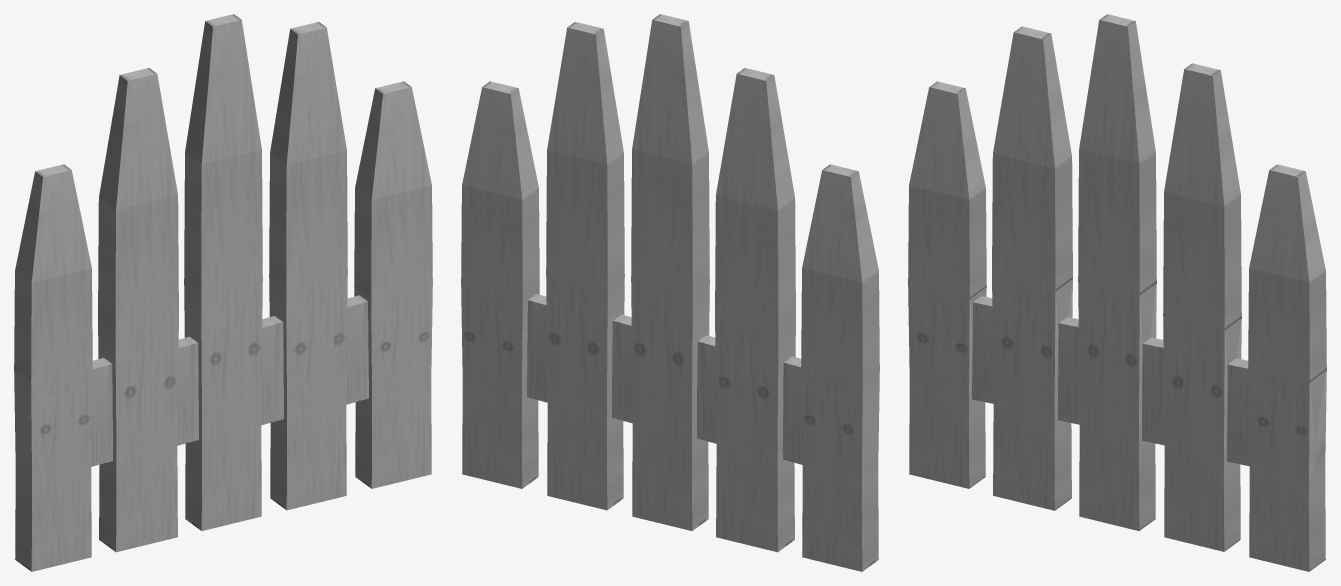
Rendered from gate1.obj.
3 views of the same model, side by side, from view 1: azimuth 30°, elevation 25°; view 2: azimuth 150°, elevation 25°; view 3: azimuth 330°, elevation 25° (orthographic).
Parts seen in each view (by area): view 1: Cube.020_Cube.060; view 2: Cube.020_Cube.060; view 3: Cube.020_Cube.060.
Boxes of the visible parts, x1,y1,x2,y2 form: Cube.020_Cube.060: (14,14,432,571); Cube.020_Cube.060: (461,14,879,571); Cube.020_Cube.060: (908,14,1326,571).
Bounding box in the file's own units: 2.36 × 2.8 × 0.1788.
